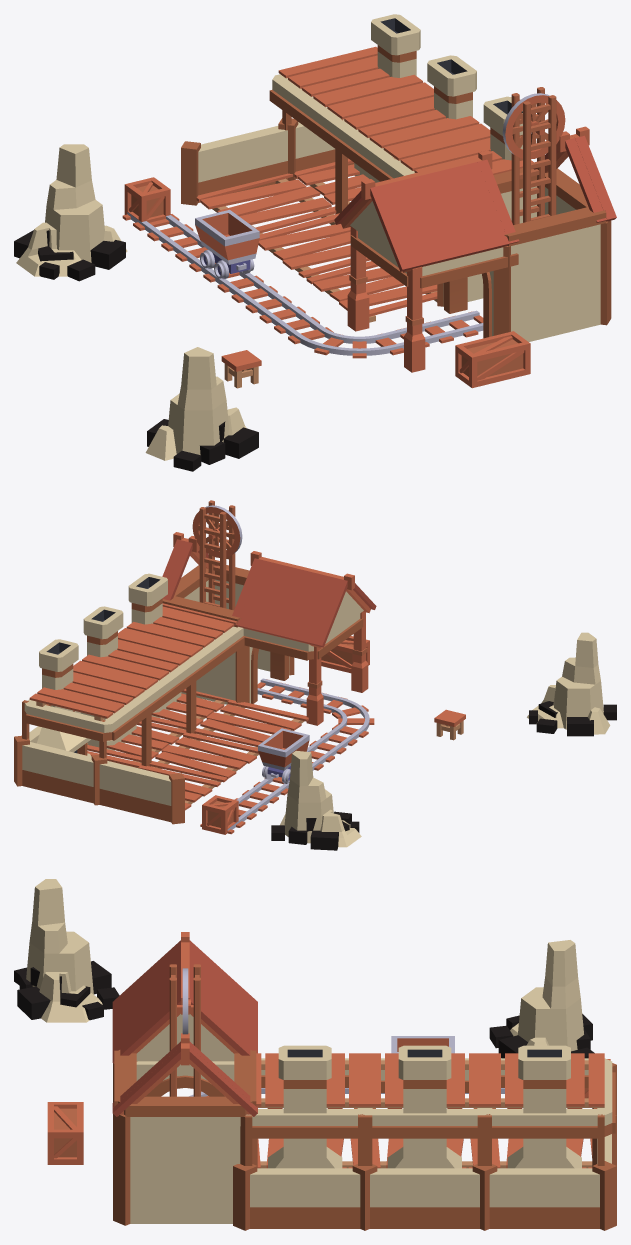
File: mine_de_charbon.glb
3 views of the same model, one above another, from view 1: azimuth 30°, elevation 25°; view 2: azimuth 150°, elevation 25°; view 3: azimuth 270°, elevation 25° (orthographic). The views are drawn at different scales.
Visible parts, largest first — view 1: mergedBlocks(Clone); view 2: mergedBlocks(Clone); view 3: mergedBlocks(Clone).
Part boxes in pixels (<box>): mergedBlocks(Clone): <box>14,14,616,471</box>; mergedBlocks(Clone): <box>14,500,616,850</box>; mergedBlocks(Clone): <box>14,879,616,1230</box>.
Bounding box in the file's own units: 5.09 × 2.11 × 5.03.
1 material, 1 textured.
